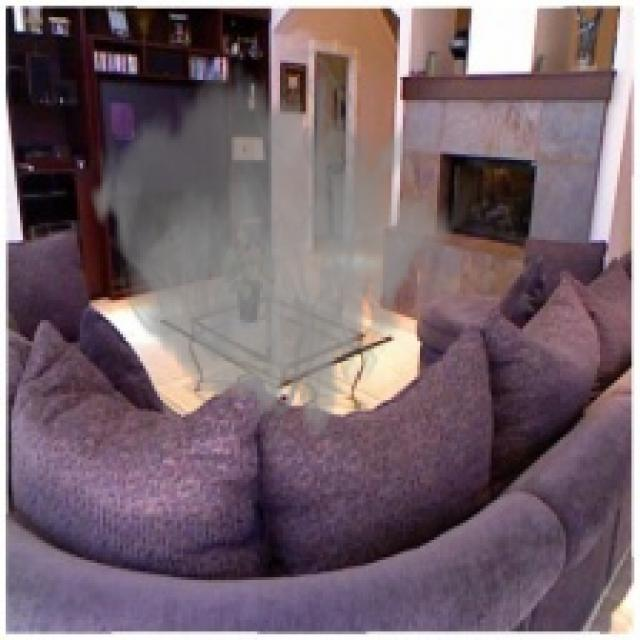smoke: (89, 29, 457, 454)
